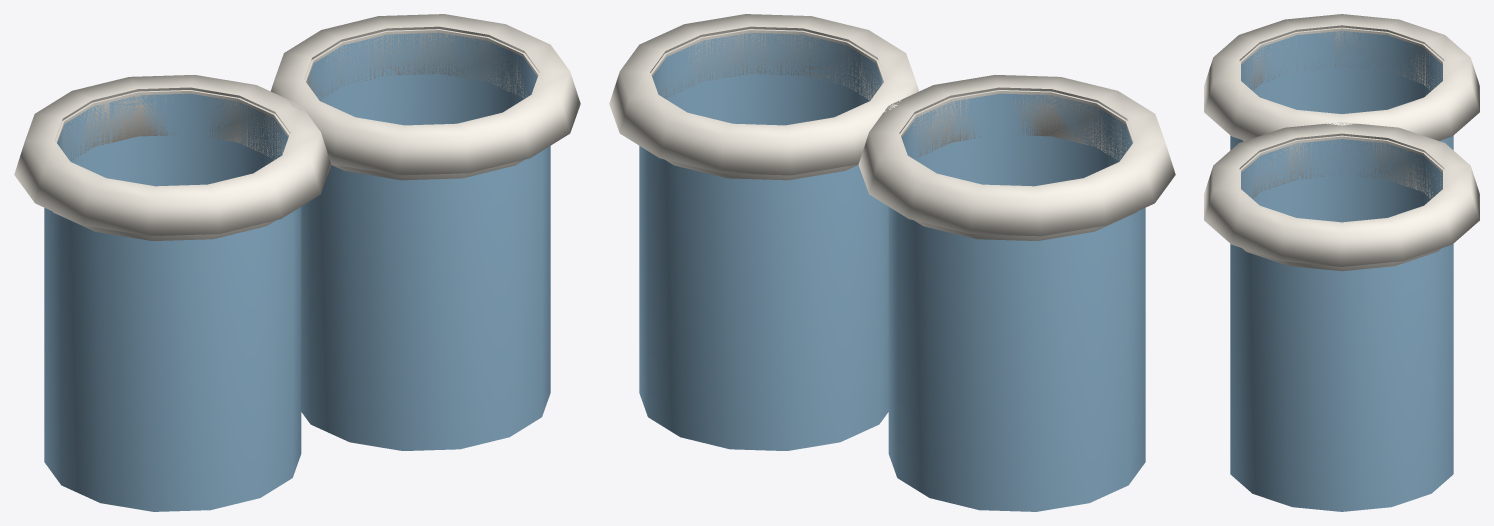
Rendered from garter_socks.glb.
3 renders of one model, left to right at view 1: azimuth 30°, elevation 25°; view 2: azimuth 150°, elevation 25°; view 3: azimuth 270°, elevation 25°, orthographic. The views are drawn at different scales.
Visible parts, largest first — view 1: garter_socks_LegL, garter_socks_LegR; view 2: garter_socks_LegL, garter_socks_LegR; view 3: garter_socks_LegR, garter_socks_LegL.
Boxes of the visible parts, x1,y1,x2,y2 form: garter_socks_LegL: (14, 75, 331, 511); garter_socks_LegR: (270, 14, 580, 450); garter_socks_LegL: (858, 75, 1175, 511); garter_socks_LegR: (609, 14, 919, 450); garter_socks_LegR: (1204, 122, 1479, 511); garter_socks_LegL: (1204, 14, 1479, 149).
Bounding box in the file's own units: 0.4 × 0.234 × 0.2047.
